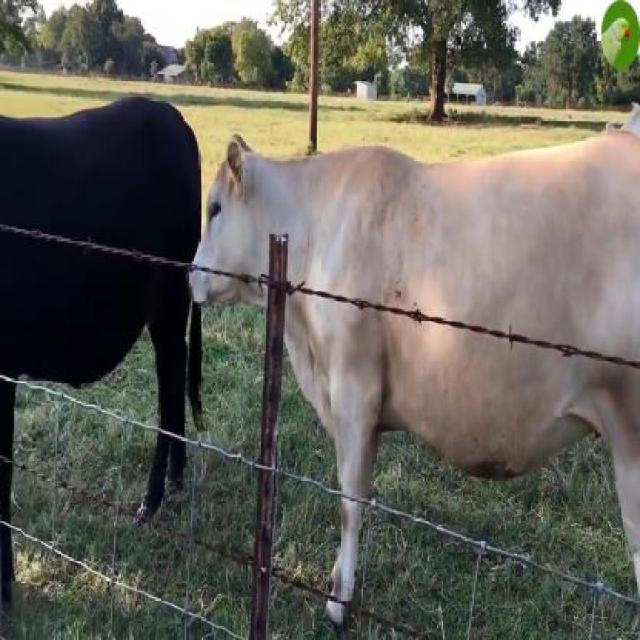Cow: (191, 136, 638, 638)
